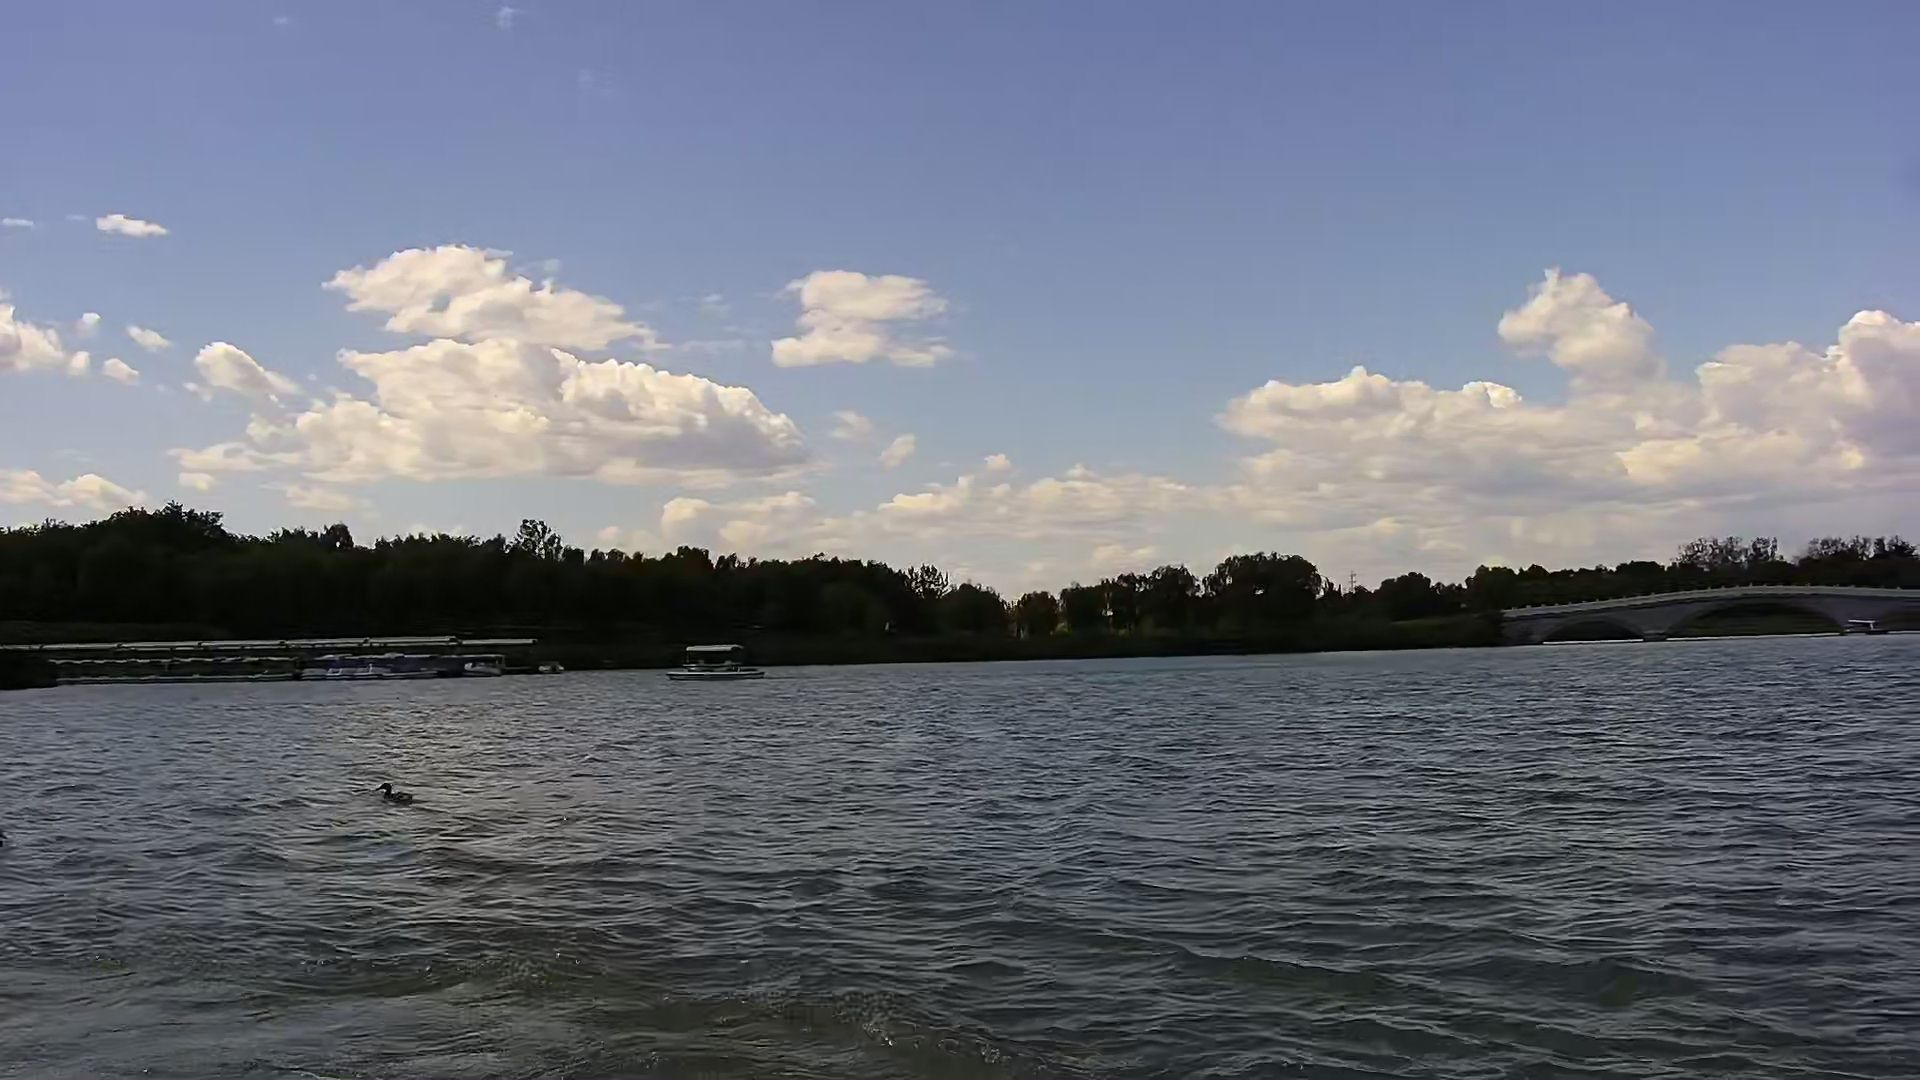animal: (372, 777, 429, 810)
boat: (667, 641, 767, 683)
bridge: (1502, 582, 1920, 651)
harbor: (1, 636, 559, 682)
